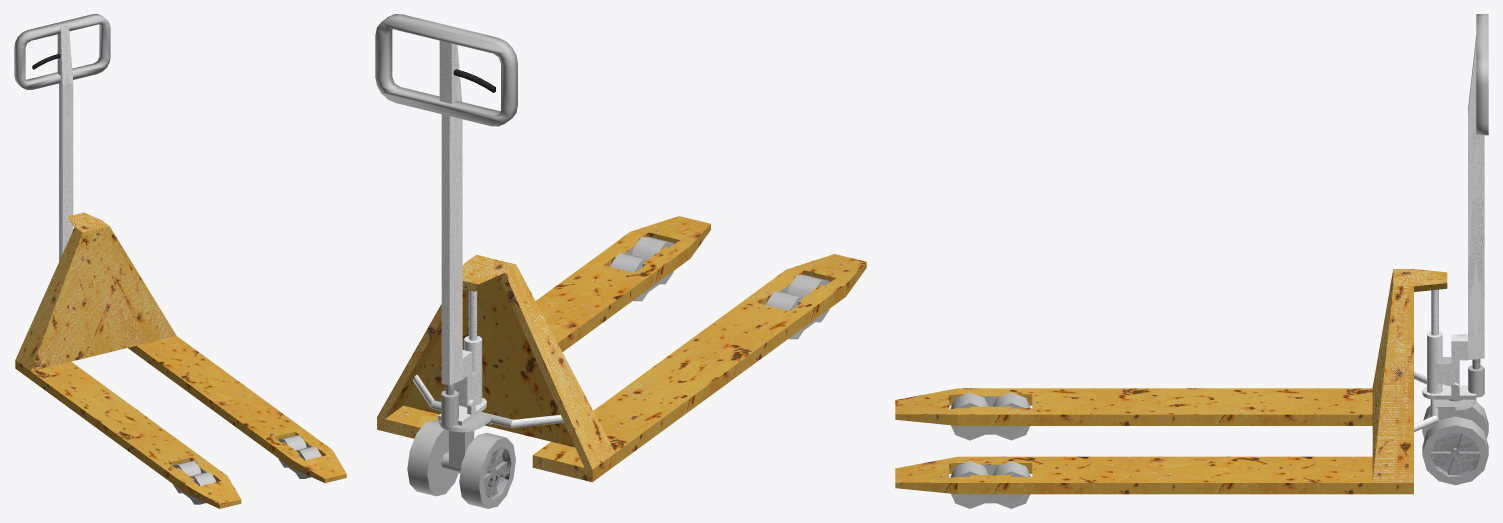
3 views of the same model, side by side, from view 1: azimuth 30°, elevation 25°; view 2: azimuth 150°, elevation 25°; view 3: azimuth 270°, elevation 25° (orthographic). The views are drawn at different scales.
Visible parts, largest first — view 1: Hubwagen (×5); view 2: Hubwagen (×11); view 3: Hubwagen (×10).
Boxes of the visible parts, x1,y1,x2,y2 form: Hubwagen (×5): [14, 14, 346, 508]; Hubwagen (×11): [375, 14, 866, 508]; Hubwagen (×10): [895, 14, 1488, 508].
Size of the model in its own units: 21.26 by 56.3 by 45.28.
